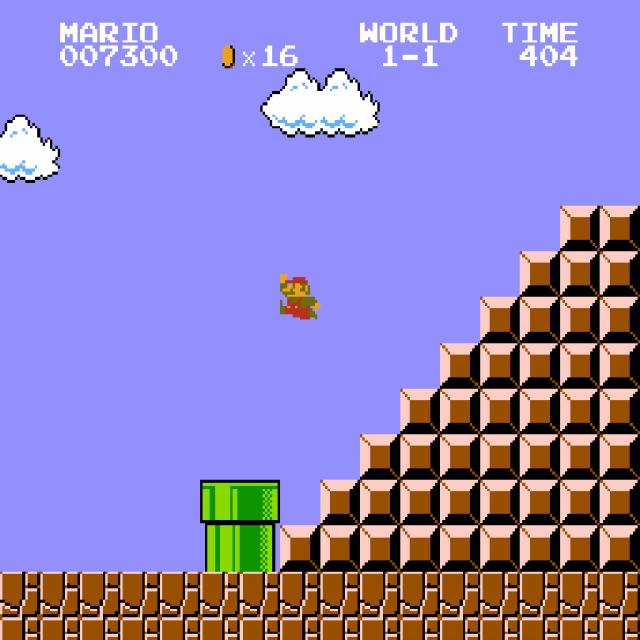hard_block: (599, 205, 640, 251), (599, 251, 640, 297), (599, 342, 640, 388), (599, 388, 640, 434), (599, 525, 640, 571), (599, 297, 640, 342), (599, 434, 640, 479), (599, 480, 640, 525), (320, 480, 360, 526), (360, 434, 400, 480), (360, 480, 400, 526), (400, 434, 440, 480), (400, 480, 440, 526), (440, 434, 480, 480), (440, 480, 480, 526), (480, 297, 520, 343), (480, 434, 520, 480), (480, 480, 520, 526), (520, 297, 560, 343), (520, 434, 560, 480), (520, 480, 560, 526), (560, 297, 600, 343), (560, 434, 600, 480), (560, 480, 600, 526), (280, 526, 320, 571), (320, 526, 360, 571), (360, 526, 400, 571), (400, 389, 440, 434), (400, 526, 440, 571), (440, 343, 480, 388), (440, 389, 480, 434), (440, 526, 480, 571), (480, 343, 520, 388), (480, 389, 520, 434), (480, 526, 520, 571), (520, 252, 560, 297), (520, 343, 560, 388), (520, 389, 560, 434), (520, 526, 560, 571), (560, 206, 600, 251), (560, 252, 600, 297), (560, 343, 600, 388), (560, 389, 600, 434), (560, 526, 600, 571)
little_mario: (277, 271, 320, 320)
pipe: (200, 526, 240, 571), (240, 526, 280, 571)
pipe_head: (200, 480, 240, 526), (240, 480, 280, 526)
undestructible_block: (599, 571, 640, 617), (0, 571, 40, 617), (40, 572, 80, 617), (80, 572, 120, 617), (120, 572, 160, 617), (160, 572, 200, 617), (200, 572, 240, 617), (240, 572, 280, 617), (280, 572, 320, 617), (320, 572, 360, 617), (360, 572, 400, 617), (400, 572, 440, 617), (440, 572, 480, 617), (480, 572, 520, 617), (520, 572, 560, 617), (560, 572, 600, 617), (40, 617, 80, 640), (80, 617, 120, 640), (120, 617, 160, 640), (160, 617, 200, 640), (200, 617, 240, 640), (240, 617, 280, 640), (280, 617, 320, 640), (320, 617, 360, 640), (360, 617, 400, 640), (400, 617, 440, 640), (440, 617, 480, 640), (480, 617, 520, 640), (520, 617, 560, 640), (560, 617, 600, 640), (599, 617, 640, 639), (0, 617, 40, 639)
